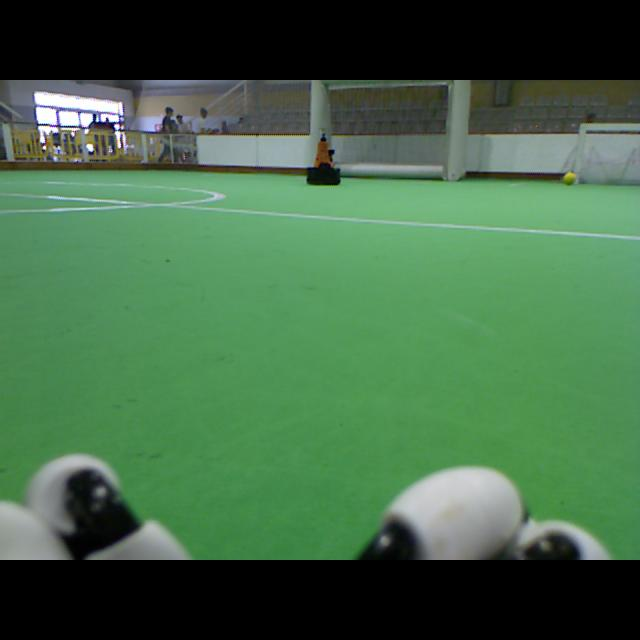ball: (564, 172, 575, 185)
goal: (573, 123, 586, 185)
robot: (306, 130, 340, 187)
